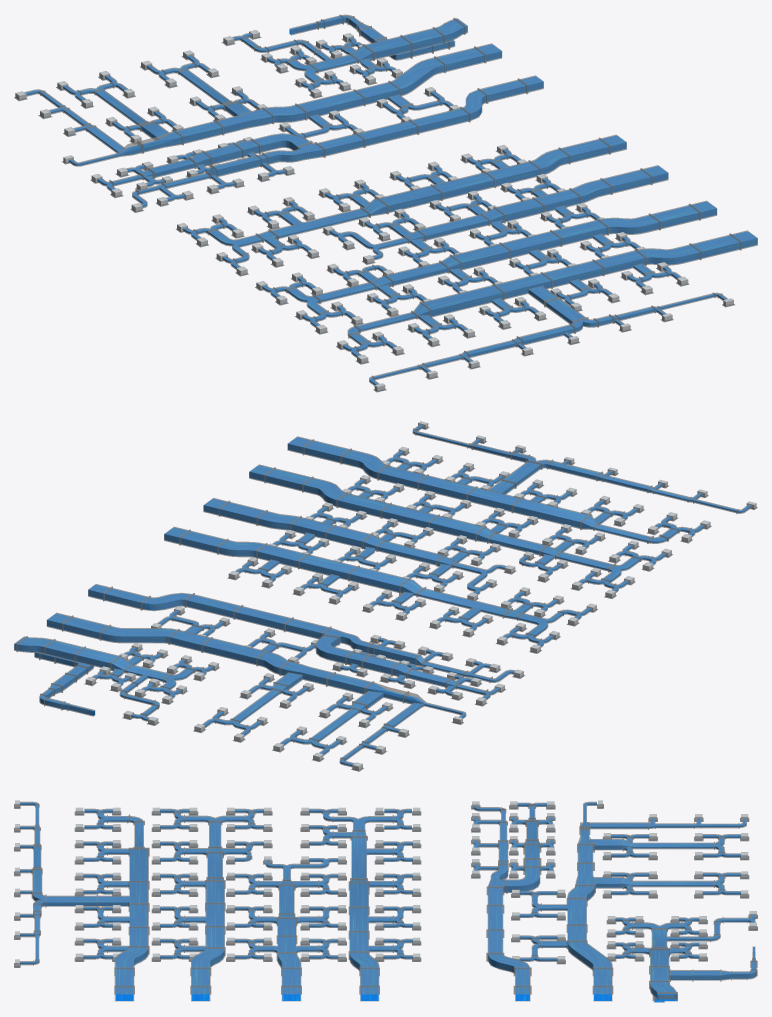
File: JiGuangLou_Opacity_Pipe.FBX
The picture shows the model from 3 angles, top to bottom: view 1: azimuth 30°, elevation 25°; view 2: azimuth 150°, elevation 25°; view 3: azimuth 270°, elevation 25°; orthographic projection. The views are drawn at different scales.
Parts seen in each view (by area): view 1: Aircondition_ALKO06PIPE, Aircondition_ALKO01PIPE, Aircondition_ALKO06PIPE_LIQUID, Aircondition_ALKO05PIPE, Aircondition_ALKO01PIPE_LIQUID, Aircondition_ALKO03PIPE, Aircondition_ALKO02PIPE, Aircondition_ALKO04PIPE, Aircondition_ALKO05PIPE_LIQUID, Aircondition_ALKO02PIPE_LIQUID, Aircondition_ALKO03PIPE_LIQUID, Aircondition_ALKO04PIPE_LIQUID (+4 smaller); view 2: Aircondition_ALKO01PIPE, Aircondition_ALKO06PIPE, Aircondition_ALKO01PIPE_LIQUID, Aircondition_ALKO03PIPE, Aircondition_ALKO06PIPE_LIQUID, Aircondition_ALKO05PIPE, Aircondition_ALKO02PIPE, Aircondition_ALKO04PIPE, Aircondition_ALKO03PIPE_LIQUID, Aircondition_ALKO02PIPE_LIQUID, Aircondition_ALKO05PIPE_LIQUID, Aircondition_ALKO04PIPE_LIQUID (+4 smaller); view 3: Aircondition_ALKO01PIPE, Aircondition_ALKO06PIPE, Aircondition_ALKO01PIPE_LIQUID, Aircondition_ALKO05PIPE, Aircondition_ALKO03PIPE, Aircondition_ALKO06PIPE_LIQUID, Aircondition_ALKO04PIPE, Aircondition_ALKO02PIPE, Aircondition_ALKO05PIPE_LIQUID, Aircondition_ALKO03PIPE_LIQUID, Aircondition_ALKO04PIPE_LIQUID, Aircondition_ALKO02PIPE_LIQUID (+4 smaller).
Part boxes in pixels (x1=…): Aircondition_ALKO06PIPE: x1=342, y1=230, x2=757, y2=385; Aircondition_ALKO01PIPE: x1=24, y1=43, x2=502, y2=166; Aircondition_ALKO06PIPE_LIQUID: x1=343, y1=231, x2=757, y2=384; Aircondition_ALKO05PIPE: x1=261, y1=200, x2=717, y2=327; Aircondition_ALKO01PIPE_LIQUID: x1=25, y1=44, x2=501, y2=165; Aircondition_ALKO03PIPE: x1=183, y1=134, x2=626, y2=269; Aircondition_ALKO02PIPE: x1=97, y1=75, x2=543, y2=208; Aircondition_ALKO04PIPE: x1=329, y1=165, x2=668, y2=264; Aircondition_ALKO05PIPE_LIQUID: x1=262, y1=201, x2=716, y2=326; Aircondition_ALKO02PIPE_LIQUID: x1=98, y1=76, x2=543, y2=207; Aircondition_ALKO03PIPE_LIQUID: x1=183, y1=135, x2=626, y2=268; Aircondition_ALKO04PIPE_LIQUID: x1=330, y1=166, x2=668, y2=262; Aircondition_ALKO01PIPE: x1=46, y1=610, x2=466, y2=767; Aircondition_ALKO06PIPE: x1=287, y1=424, x2=751, y2=543; Aircondition_ALKO01PIPE_LIQUID: x1=47, y1=611, x2=465, y2=766; Aircondition_ALKO03PIPE: x1=164, y1=526, x2=591, y2=647; Aircondition_ALKO06PIPE_LIQUID: x1=288, y1=425, x2=751, y2=542; Aircondition_ALKO05PIPE: x1=249, y1=464, x2=666, y2=592; Aircondition_ALKO02PIPE: x1=88, y1=584, x2=515, y2=700; Aircondition_ALKO04PIPE: x1=203, y1=498, x2=506, y2=594; Aircondition_ALKO03PIPE_LIQUID: x1=164, y1=527, x2=591, y2=646; Aircondition_ALKO02PIPE_LIQUID: x1=88, y1=585, x2=514, y2=698; Aircondition_ALKO05PIPE_LIQUID: x1=249, y1=465, x2=666, y2=591; Aircondition_ALKO04PIPE_LIQUID: x1=203, y1=499, x2=505, y2=593; Aircondition_ALKO01PIPE: x1=519, y1=801, x2=746, y2=1001; Aircondition_ALKO06PIPE: x1=20, y1=801, x2=149, y2=1001; Aircondition_ALKO01PIPE_LIQUID: x1=519, y1=802, x2=746, y2=1000; Aircondition_ALKO05PIPE: x1=160, y1=808, x2=263, y2=1001; Aircondition_ALKO03PIPE: x1=309, y1=808, x2=412, y2=1001; Aircondition_ALKO06PIPE_LIQUID: x1=20, y1=802, x2=147, y2=1000; Aircondition_ALKO04PIPE: x1=234, y1=858, x2=338, y2=1001; Aircondition_ALKO02PIPE: x1=473, y1=802, x2=554, y2=1001; Aircondition_ALKO05PIPE_LIQUID: x1=160, y1=809, x2=263, y2=1000; Aircondition_ALKO03PIPE_LIQUID: x1=309, y1=809, x2=412, y2=1000; Aircondition_ALKO04PIPE_LIQUID: x1=234, y1=858, x2=338, y2=1000; Aircondition_ALKO02PIPE_LIQUID: x1=474, y1=803, x2=553, y2=1000.
Bounding box in the file's own units: 4814 × 190 × 7620.
